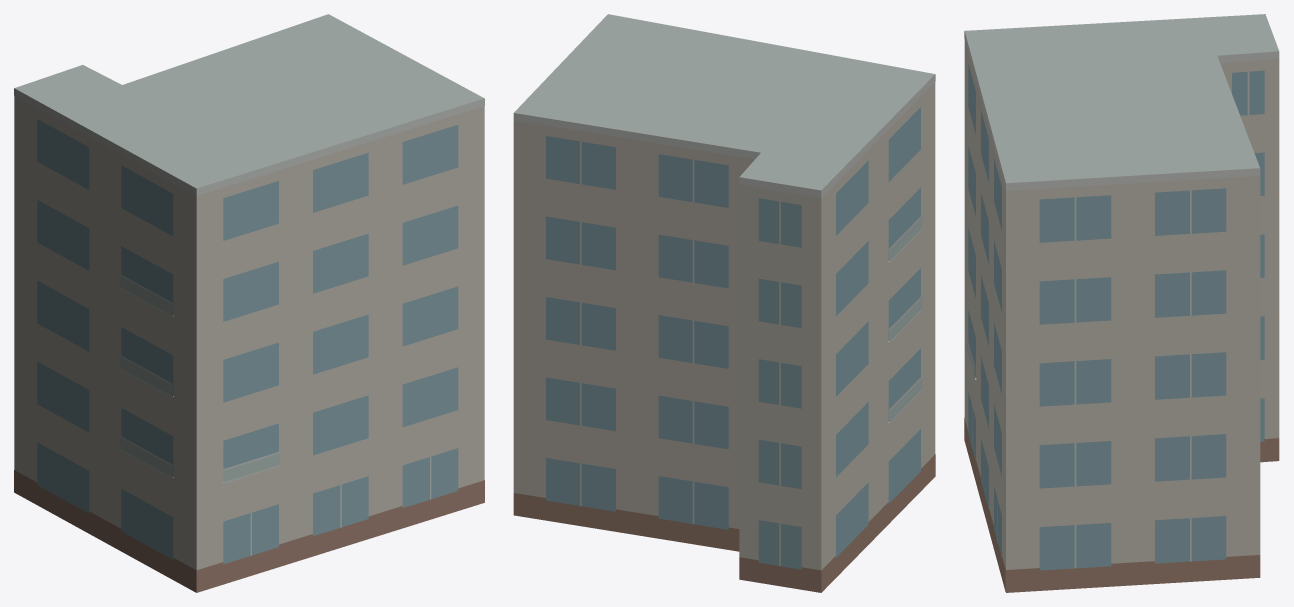
File: survey-upis-32719554.glb
The picture shows the model from 3 angles, left to right: view 1: azimuth 30°, elevation 25°; view 2: azimuth 150°, elevation 25°; view 3: azimuth 270°, elevation 25°; orthographic projection.
Visible parts, largest first — view 1: survey-upis-32719554.tmp; view 2: survey-upis-32719554.tmp; view 3: survey-upis-32719554.tmp.
Boxes of the visible parts, x1=… form: survey-upis-32719554.tmp: x1=14, y1=14, x2=484, y2=592; survey-upis-32719554.tmp: x1=513, y1=14, x2=935, y2=592; survey-upis-32719554.tmp: x1=964, y1=14, x2=1279, y2=592.
Bounding box in the file's own units: 11.71 × 13.2 × 9.21.
